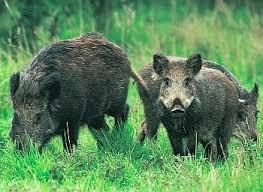wildboar: (7, 30, 151, 159), (150, 50, 241, 163)
